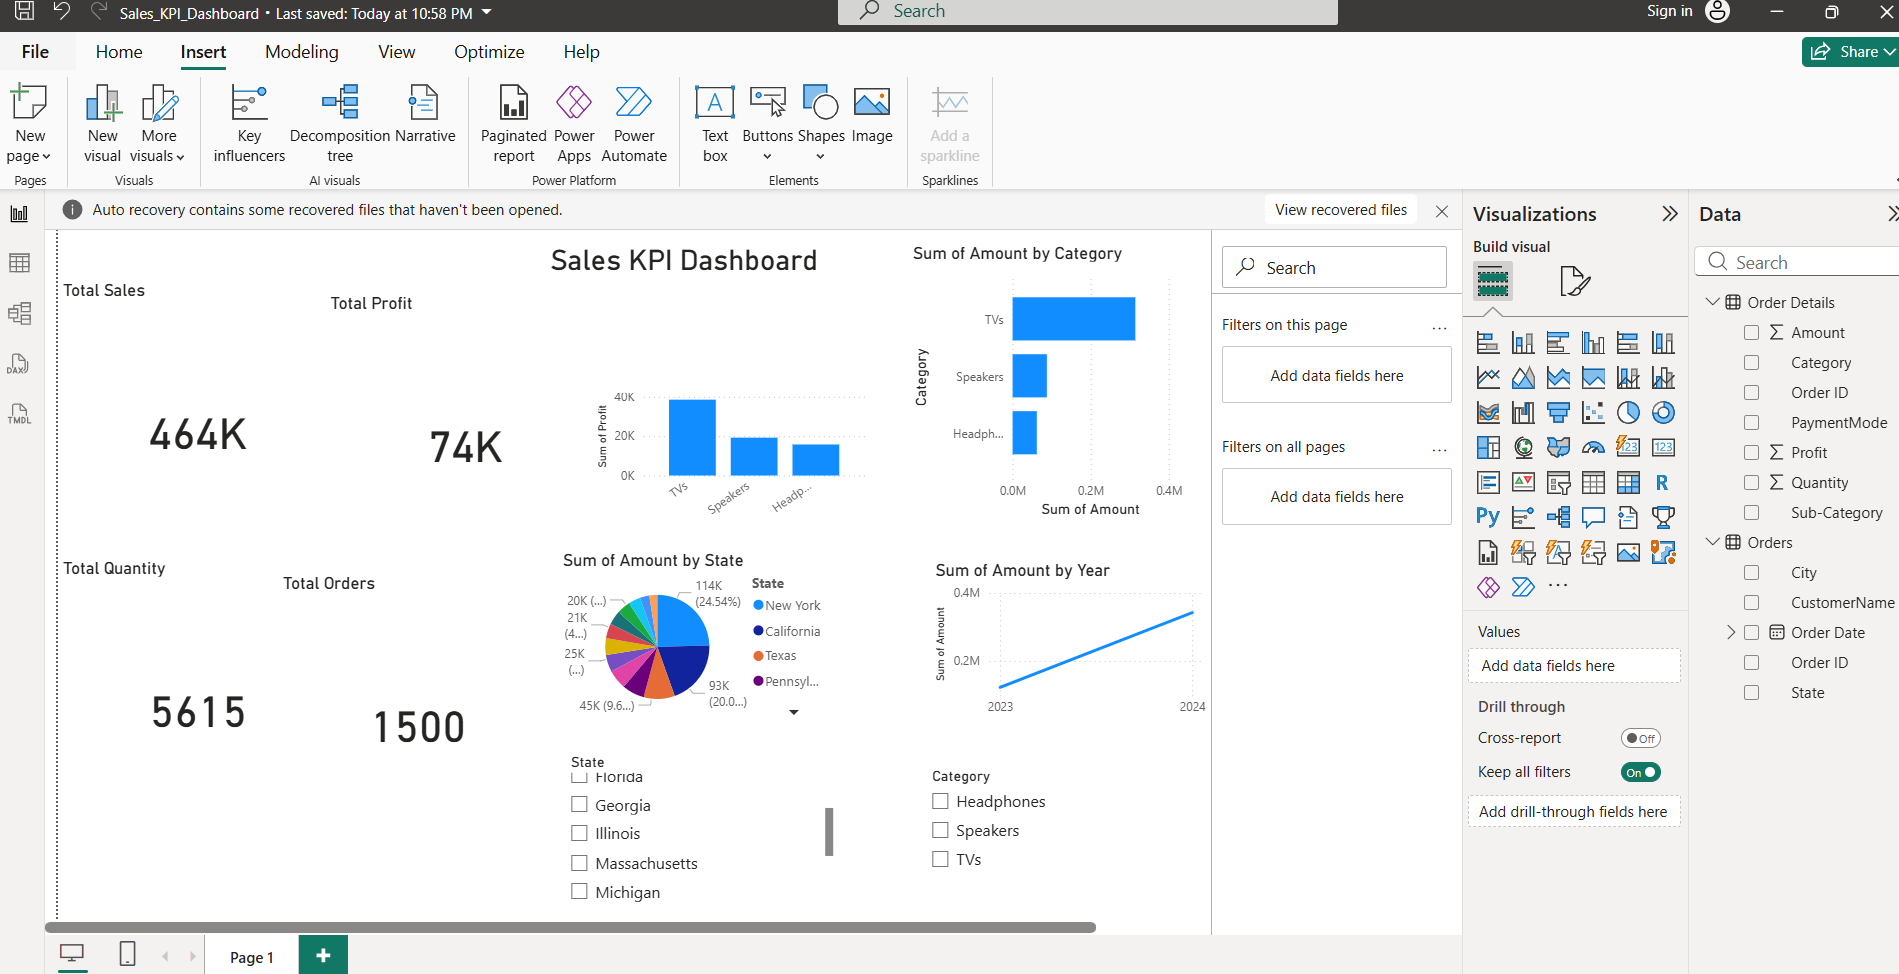

This screenshot's page, from the dashboard's own definition file:
{"tool":"powerbi","page":{"name":"Page 1","canvas":[1280,720],"ordinal":0},"visuals":[{"type":"card","title":"Total Sales","fields":{"Values":["Sum(Order Details.Amount)"]},"box":[0,80,280,280],"z":0},{"type":"card","title":"Total Profit","fields":{"Values":["Sum(Order Details.Profit)"]},"box":[267.5,92.5,280,280],"z":1},{"type":"card","title":"Total Quantity","fields":{"Values":["Sum(Order Details.Quantity)"]},"box":[0,357.5,280,280],"z":2},{"type":"card","title":"Total Orders","fields":{"Values":["CountNonNull(Order Details.Order ID)"]},"box":[220,372.5,280,280],"z":3},{"type":"clusteredBarChart","fields":{"Category":["Order Details.Category"],"Y":["Sum(Order Details.Amount)"]},"box":[850,42.5,280,280],"z":4},{"type":"pieChart","fields":{"Y":["Sum(Order Details.Amount)"],"Category":["Orders.State"]},"box":[500,350,280,175],"z":6},{"type":"lineChart","fields":{"Category":["Orders.Order Date.Variation.Date Hierarchy.Year","Orders.Order Date.Variation.Date Hierarchy.Quarter","Orders.Order Date.Variation.Date Hierarchy.Month","Orders.Order Date.Variation.Date Hierarchy.Day"],"Y":["Sum(Order Details.Amount)"]},"box":[872.5,360,280,165],"z":7},{"type":"clusteredColumnChart","fields":{"Category":["Order Details.Category"],"Y":["Sum(Order Details.Profit)"]},"box":[533.8,163.8,280,165],"z":8},{"type":"slicer","fields":{"Values":["Orders.State"]},"box":[500,548.8,280,163.8],"z":9},{"type":"slicer","fields":{"Values":["Order Details.Category"]},"box":[861.2,562.5,280,150],"z":10},{"type":"textbox","title":"Sales KPI Dashboard","box":[487.5,42.5,280,150],"z":11}]}

Visuals, with their boxes on the page's 1280x720 design canvas (x1, y1, x2, y2). These are canvas units, not pixel positions in the 1899x974 screenshot, which may show the page scaled, cropped or inside an application window:
"Total Sales" card: pyautogui.locateOnScreen(0, 80, 280, 360)
"Total Profit" card: pyautogui.locateOnScreen(268, 92, 548, 372)
"Total Quantity" card: pyautogui.locateOnScreen(0, 358, 280, 638)
"Total Orders" card: pyautogui.locateOnScreen(220, 372, 500, 652)
clusteredBarChart - Order Details.Category x Sum(Order Details.Amount): pyautogui.locateOnScreen(850, 42, 1130, 322)
pieChart - Sum(Order Details.Amount) x Orders.State: pyautogui.locateOnScreen(500, 350, 780, 525)
lineChart - Orders.Order Date.Variation.Date Hierarchy.Year x Orders.Order Date.Variation.Date Hierarchy.Quarter: pyautogui.locateOnScreen(872, 360, 1152, 525)
clusteredColumnChart - Order Details.Category x Sum(Order Details.Profit): pyautogui.locateOnScreen(534, 164, 814, 329)
slicer - Orders.State: pyautogui.locateOnScreen(500, 549, 780, 713)
slicer - Order Details.Category: pyautogui.locateOnScreen(861, 562, 1141, 712)
"Sales KPI Dashboard" textbox: pyautogui.locateOnScreen(488, 42, 768, 192)
